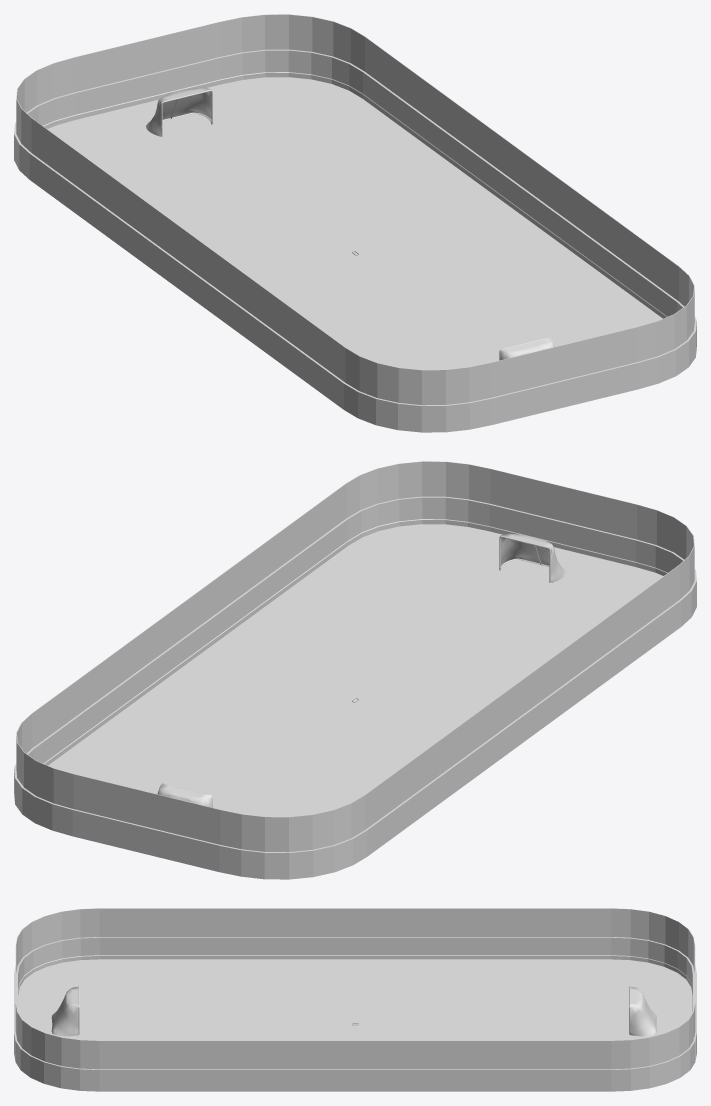
File: hockeyrink.glb
The picture shows the model from 3 angles, top to bottom: view 1: azimuth 30°, elevation 25°; view 2: azimuth 150°, elevation 25°; view 3: azimuth 270°, elevation 25°; orthographic projection. The views are drawn at different scales.
Visible parts, largest first — view 1: Ice_Plane.001, Boards_Mesh.001, GoalNet_Plane.009, GoalNet.001_Plane.010; view 2: Ice_Plane.001, Boards_Mesh.001, GoalNet.001_Plane.010, GoalNet_Plane.009; view 3: Boards_Mesh.001, Ice_Plane.001, GoalNet.001_Plane.010, GoalNet_Plane.009.
Part boxes in pixels (x1=…): Ice_Plane.001: x1=47, y1=77, x2=662, y2=369; Boards_Mesh.001: x1=14, y1=14, x2=696, y2=432; GoalNet_Plane.009: x1=146, y1=87, x2=213, y2=136; GoalNet.001_Plane.010: x1=499, y1=337, x2=554, y2=360; Ice_Plane.001: x1=48, y1=524, x2=663, y2=816; Boards_Mesh.001: x1=14, y1=461, x2=696, y2=879; GoalNet.001_Plane.010: x1=499, y1=533, x2=566, y2=582; GoalNet_Plane.009: x1=157, y1=783, x2=212, y2=807; Boards_Mesh.001: x1=14, y1=908, x2=696, y2=1091; Ice_Plane.001: x1=18, y1=959, x2=692, y2=1040; GoalNet.001_Plane.010: x1=51, y1=986, x2=79, y2=1036; GoalNet_Plane.009: x1=629, y1=986, x2=656, y2=1036.
Size of what is drawn, in the model's own units: 1216 by 215 by 2616.
15 materials, 3 textured.
